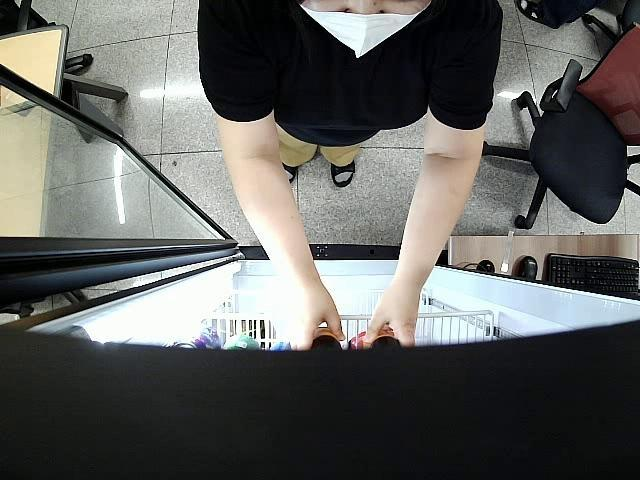17_vita500: (308, 325, 345, 353), (368, 324, 403, 348)
